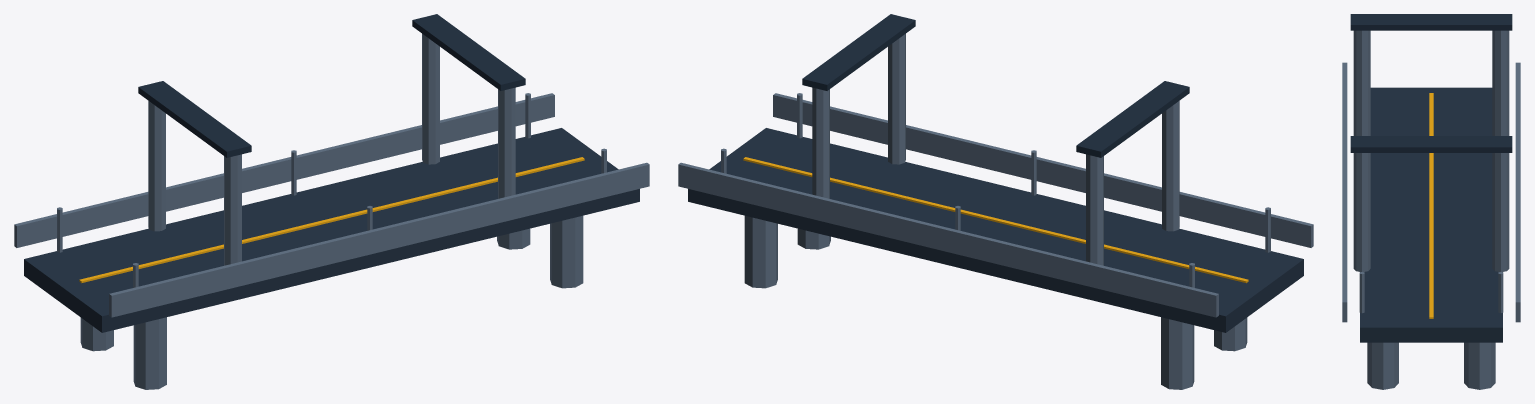
Rendered from bridge.obj.
3 renders of one model, left to right at view 1: azimuth 30°, elevation 25°; view 2: azimuth 150°, elevation 25°; view 3: azimuth 270°, elevation 25°, orthographic. The views are drawn at different scales.
Parts seen in each view (by area): view 1: Bridge deck, Safety rail, Bridge tower, Pier, Tower cap, Center divider, Rail post; view 2: Bridge deck, Safety rail, Bridge tower, Pier, Tower cap, Center divider, Rail post; view 3: Bridge deck, Bridge tower, Tower cap, Safety rail, Pier, Center divider, Rail post.
Boxes of the visible parts, left/top/right/bottom form: Bridge deck: left=24, top=128, right=639, bottom=332; Safety rail: left=14, top=93, right=649, bottom=317; Bridge tower: left=148, top=34, right=515, bottom=265; Pier: left=80, top=215, right=583, bottom=389; Tower cap: left=138, top=14, right=525, bottom=157; Center divider: left=79, top=157, right=584, bottom=283; Rail post: left=57, top=93, right=606, bottom=287; Bridge deck: left=688, top=128, right=1303, bottom=332; Safety rail: left=678, top=93, right=1313, bottom=317; Bridge tower: left=812, top=34, right=1179, bottom=265; Pier: left=744, top=215, right=1247, bottom=389; Tower cap: left=802, top=14, right=1189, bottom=157; Center divider: left=743, top=157, right=1248, bottom=283; Rail post: left=721, top=93, right=1270, bottom=287; Bridge deck: left=1360, top=87, right=1502, bottom=342; Bridge tower: left=1353, top=30, right=1509, bottom=271; Tower cap: left=1350, top=14, right=1512, bottom=152; Safety rail: left=1342, top=62, right=1520, bottom=322; Pier: left=1367, top=342, right=1495, bottom=389; Center divider: left=1429, top=93, right=1433, bottom=318; Rail post: left=1359, top=272, right=1503, bottom=313.
Size of the model in its own units: 10.8 by 4.41 by 3.39.
